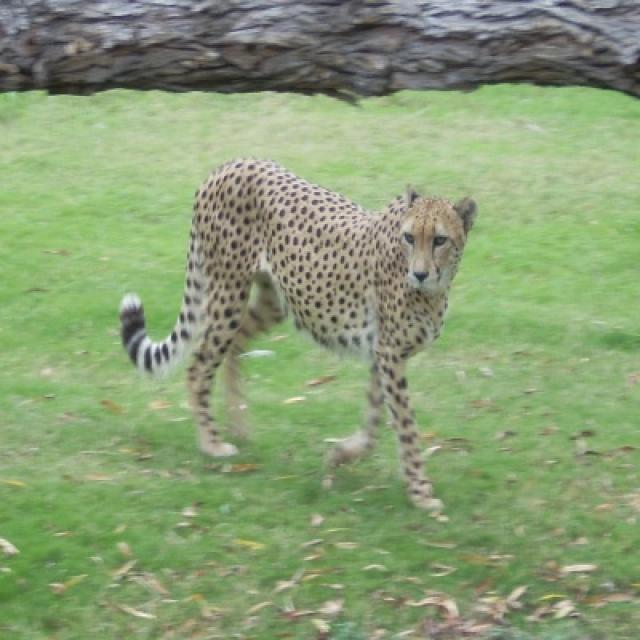Cheetah: (121, 163, 480, 511)
